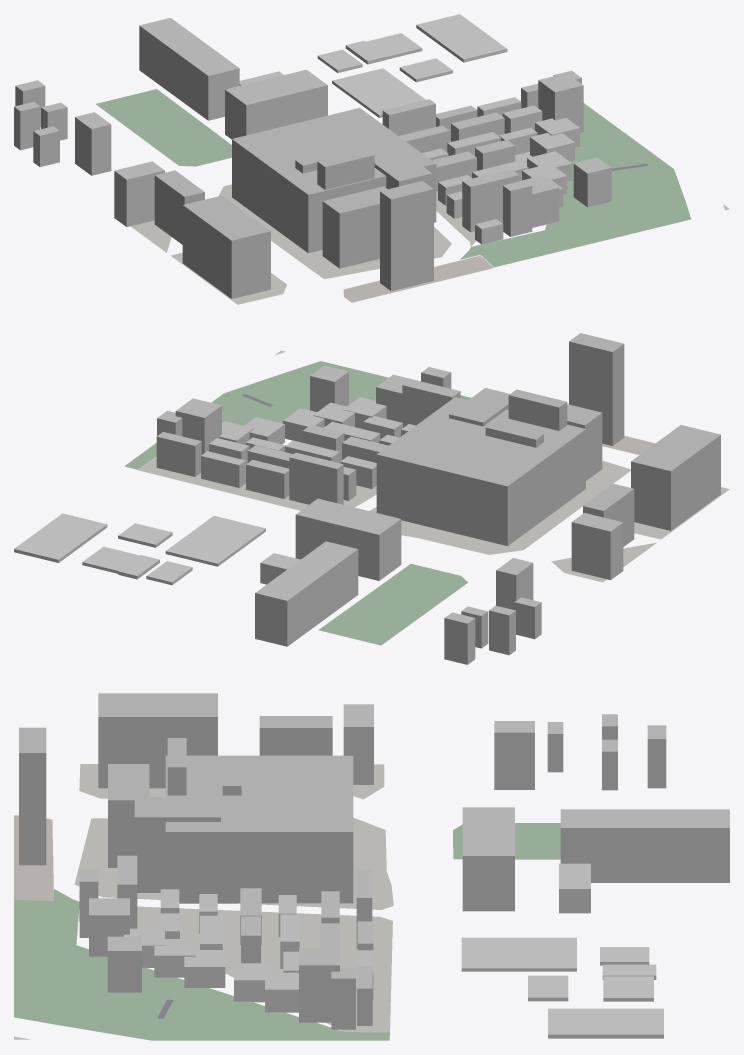
Rendered from 114_75_mid.glb.
The picture shows the model from 3 angles, top to bottom: view 1: azimuth 30°, elevation 25°; view 2: azimuth 150°, elevation 25°; view 3: azimuth 270°, elevation 25°; orthographic projection. The views are drawn at different scales.
Size of the model in its own units: 508 by 95.43 by 544.
